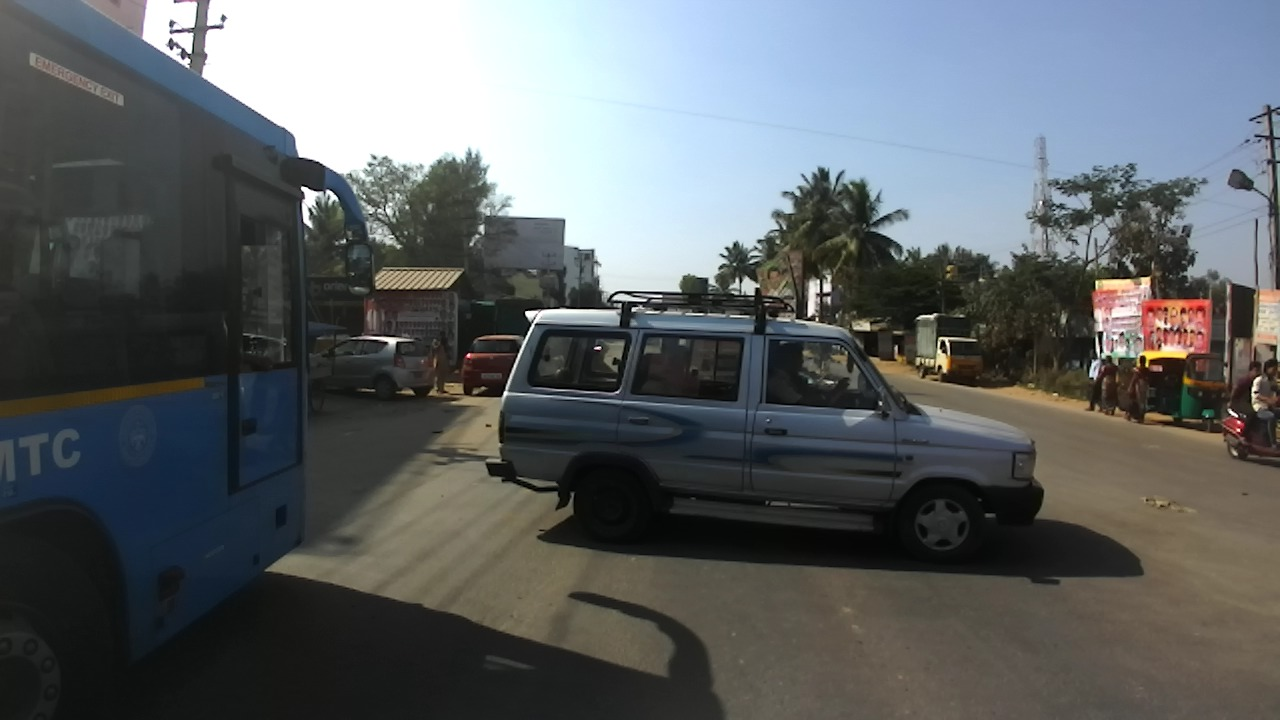autorickshaw: (1137, 350, 1228, 432)
bus: (1, 2, 373, 720)
car: (483, 287, 1046, 565), (311, 335, 435, 400), (462, 336, 525, 396)
motorcycle: (1221, 392, 1280, 458)
person: (1116, 354, 1152, 423), (1094, 354, 1117, 415), (1086, 349, 1102, 414), (432, 338, 450, 393)
rider: (1229, 361, 1262, 446), (1250, 357, 1279, 451)
truck: (914, 314, 982, 384)
vehicle fallback: (307, 323, 347, 411), (495, 298, 542, 336), (472, 303, 498, 337)
